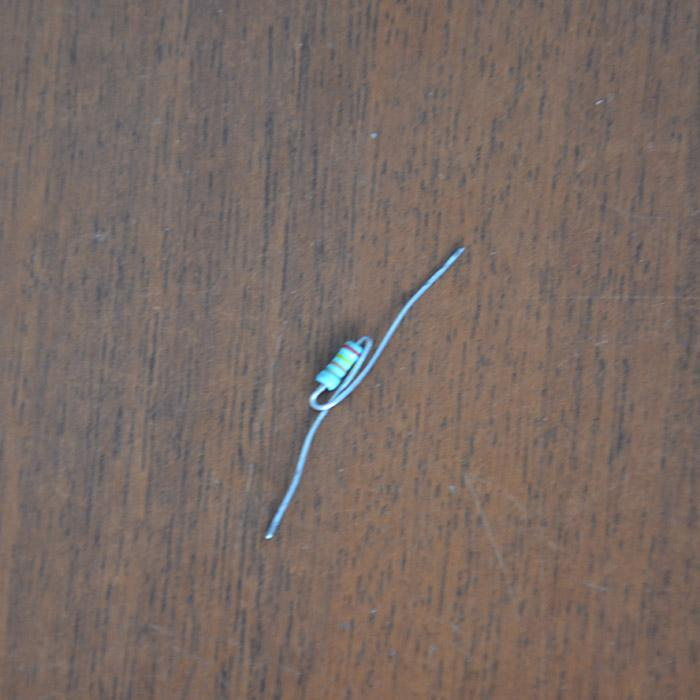resistor: (314, 339, 363, 393)
